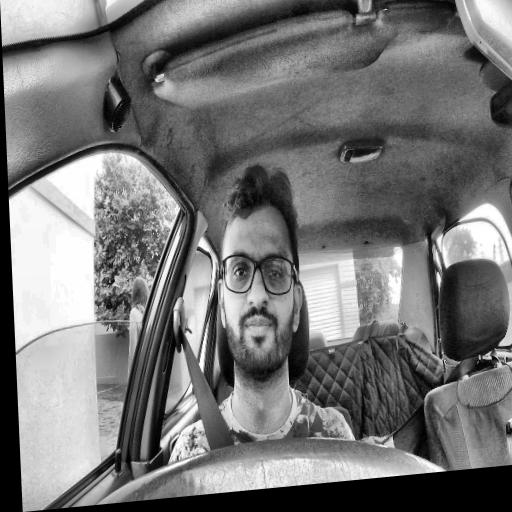awake: (212, 160, 306, 383)
